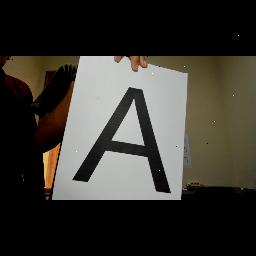a: (68, 76, 176, 198)
